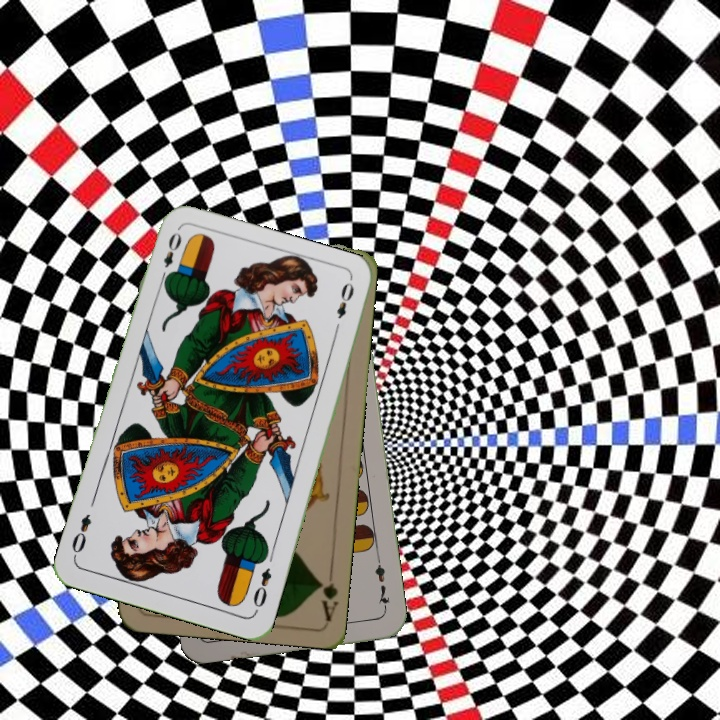E7: (371, 554, 393, 613)
EO: (156, 228, 184, 285), (249, 564, 275, 615)
GA: (313, 563, 341, 623)
